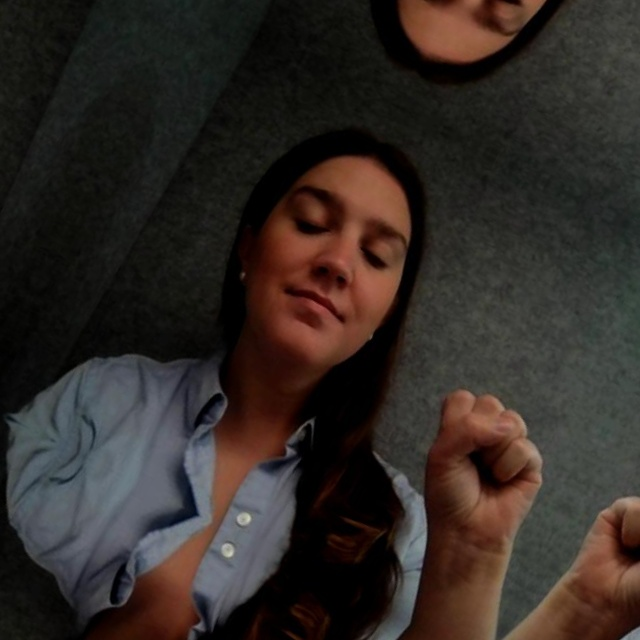Rock: (634, 0, 640, 72)
